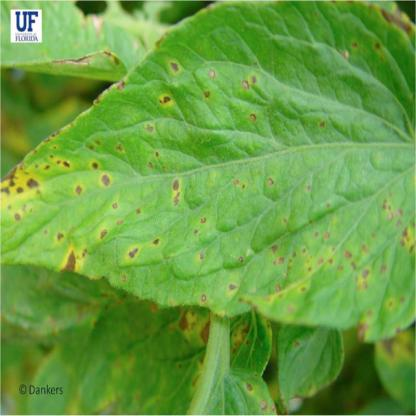Tomato leaf bacterial spot: (7, 16, 415, 351)
